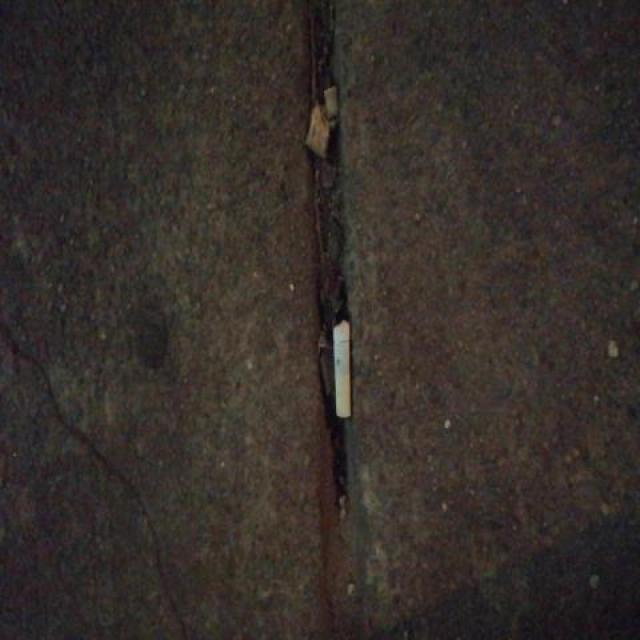non-organic waste: (330, 317, 354, 422)
